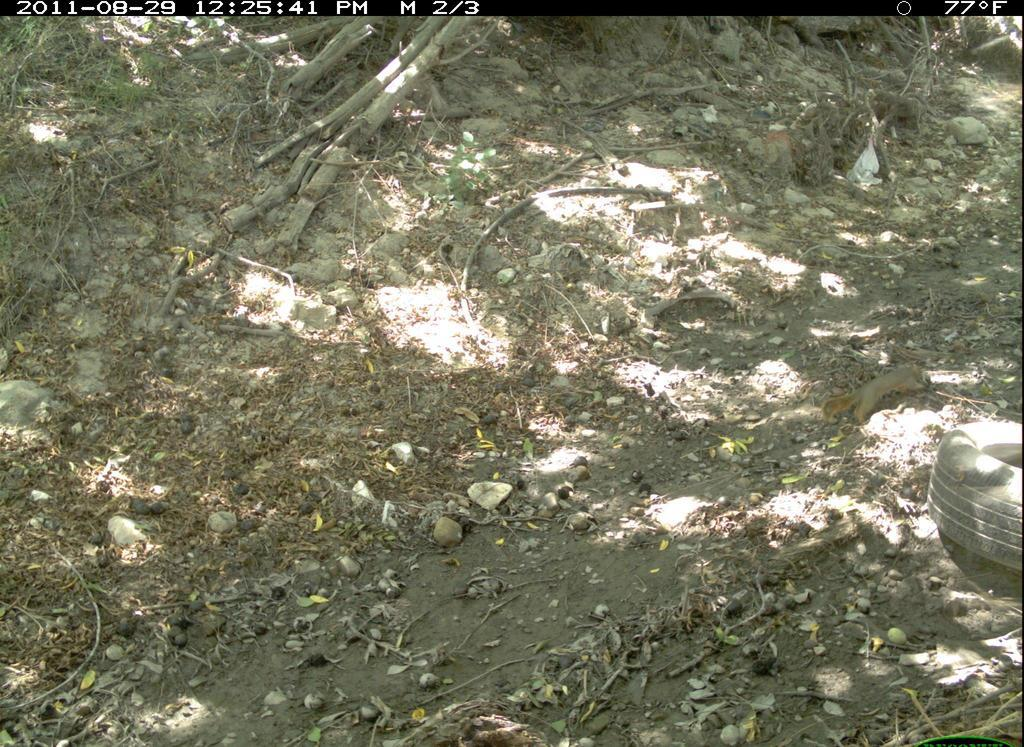squirrel: (812, 354, 957, 436)
